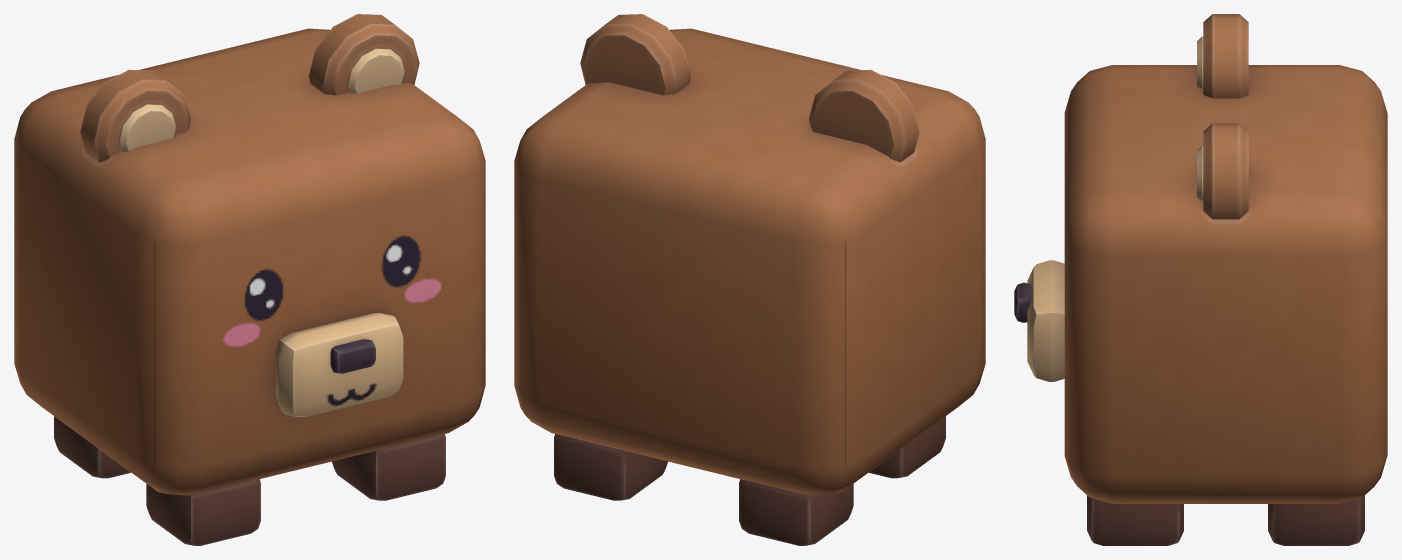
Rendered from Bear.fbx.
3 renders of one model, left to right at view 1: azimuth 30°, elevation 25°; view 2: azimuth 150°, elevation 25°; view 3: azimuth 270°, elevation 25°, orthographic. The views are drawn at different scales.
Parts seen in each view (by area): view 1: Bear; view 2: Bear; view 3: Bear.
Boxes of the visible parts, x1=… form: Bear: x1=14, y1=14, x2=485, y2=545; Bear: x1=514, y1=14, x2=985, y2=545; Bear: x1=1014, y1=14, x2=1387, y2=545.
Bounding box in the file's own units: 240 × 284 × 231.
1 material, 1 textured.
